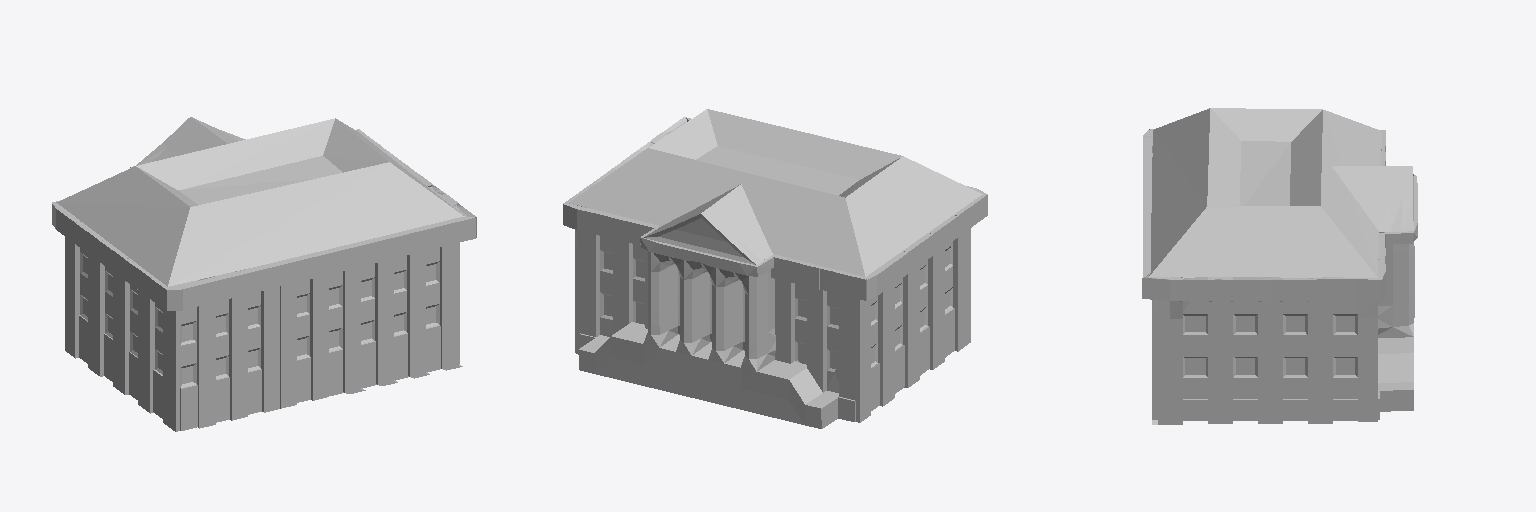
File: town hall.obj
The picture shows the model from 3 angles: view 1: azimuth 30°, elevation 25°; view 2: azimuth 150°, elevation 25°; view 3: azimuth 270°, elevation 25°; orthographic projection.
Parts seen in each view (by area): view 1: Plane001; view 2: Plane001; view 3: Plane001.
Part boxes in pixels (bbox=[...]): Plane001: bbox=[52, 117, 476, 431]; Plane001: bbox=[563, 109, 987, 428]; Plane001: bbox=[1142, 108, 1417, 424].
Size of the model in its own units: 95.83 by 58.64 by 74.15.